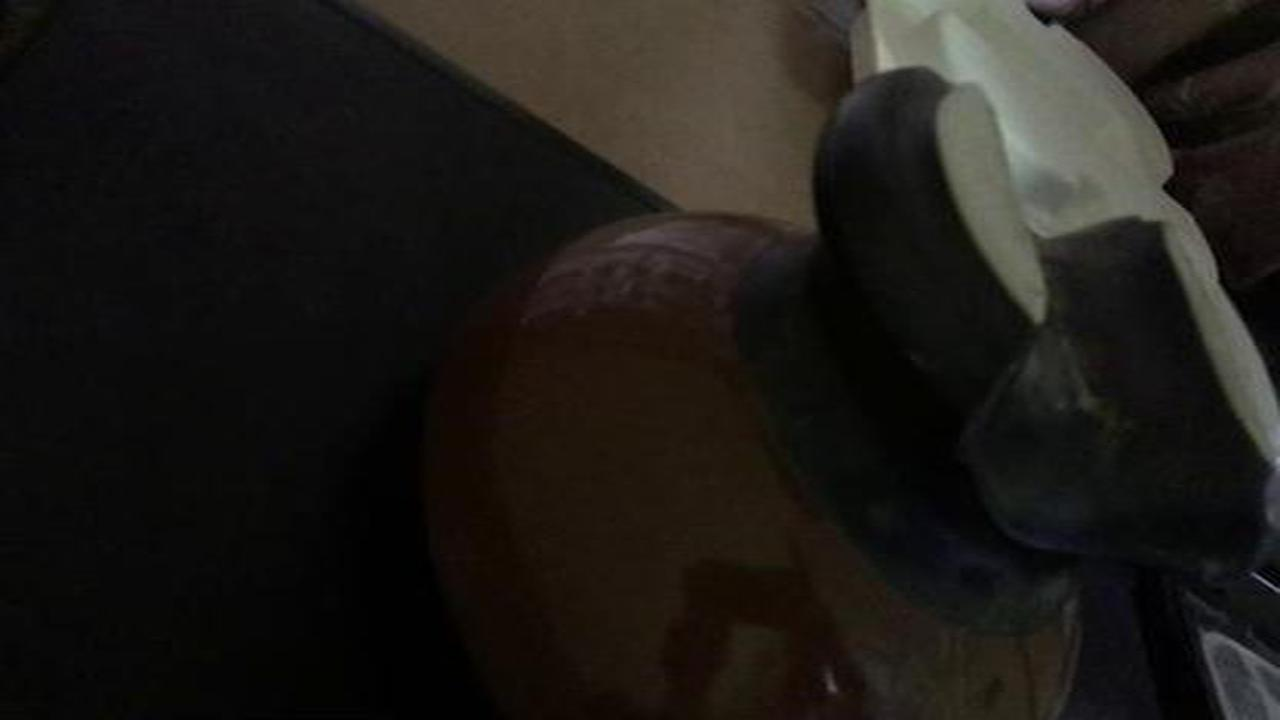insulator_pin: (382, 57, 1274, 715)
